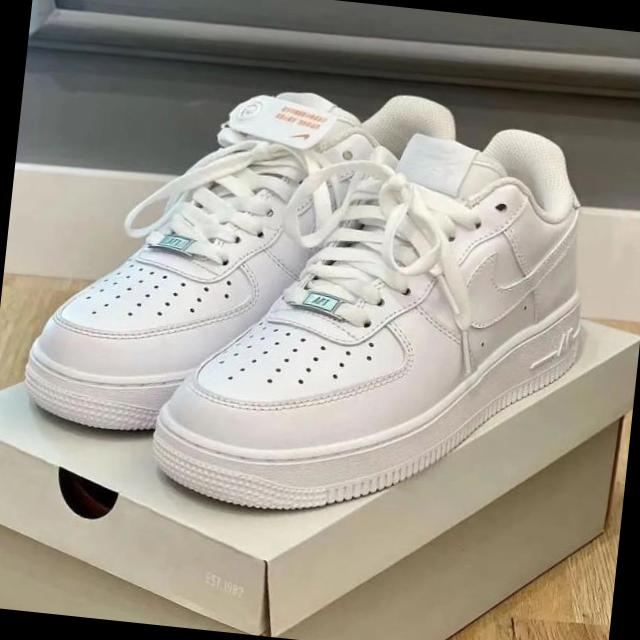nike_original_airforce: (138, 74, 614, 544), (12, 61, 435, 464)
